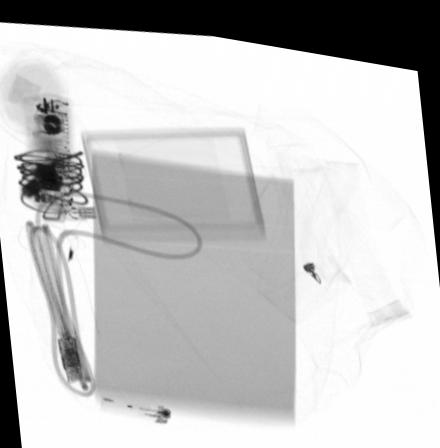Lighter: (101, 391, 172, 418)
